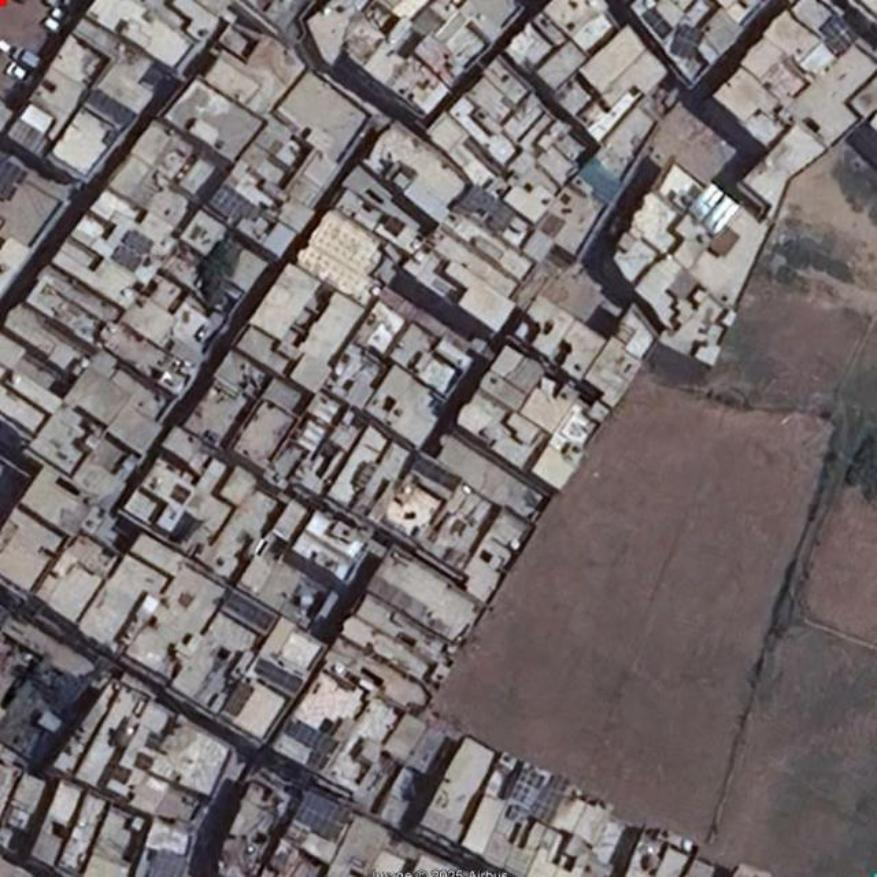Solarpanel: (294, 792, 352, 840), (225, 595, 275, 629), (820, 13, 860, 55), (257, 660, 303, 692), (212, 184, 252, 219), (290, 719, 329, 753), (670, 24, 705, 57)
